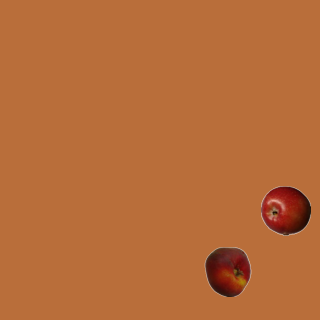Apple Braeburn: (260, 185, 310, 235)
Nectarine Flat: (202, 246, 252, 296)
